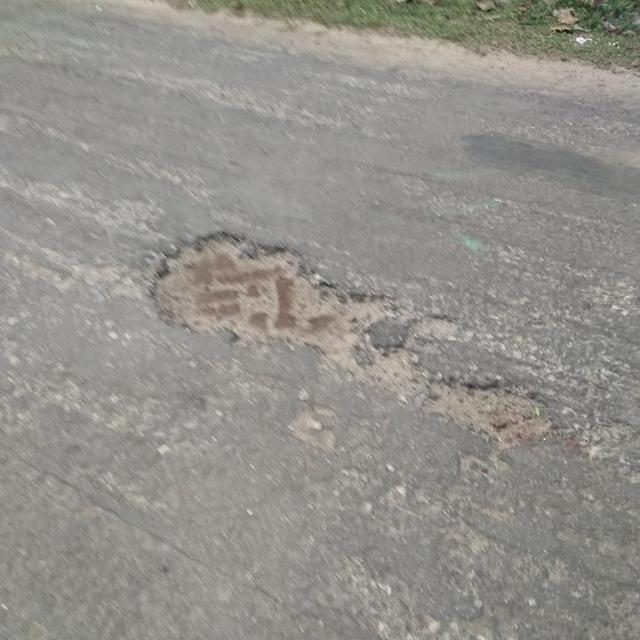Pothole: (142, 224, 419, 393), (419, 372, 559, 449)
